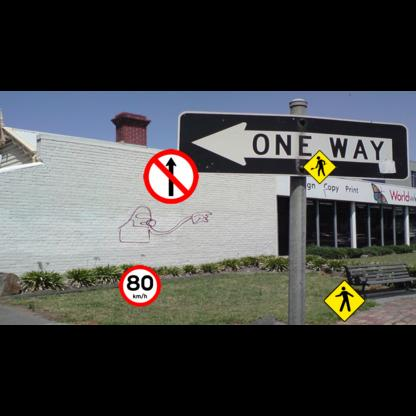A-24: (302, 150, 337, 184)
A-32a: (323, 279, 366, 322)
R-19: (119, 265, 161, 307)
R-3: (143, 149, 199, 204)
